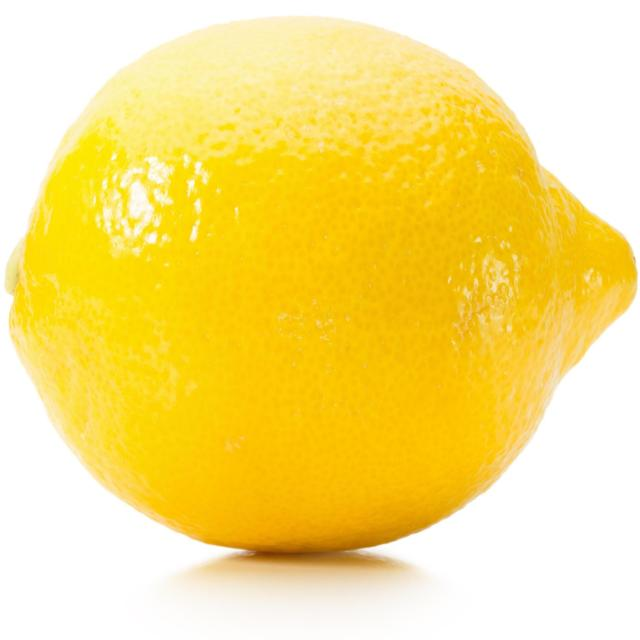lemon: (0, 5, 640, 572)
